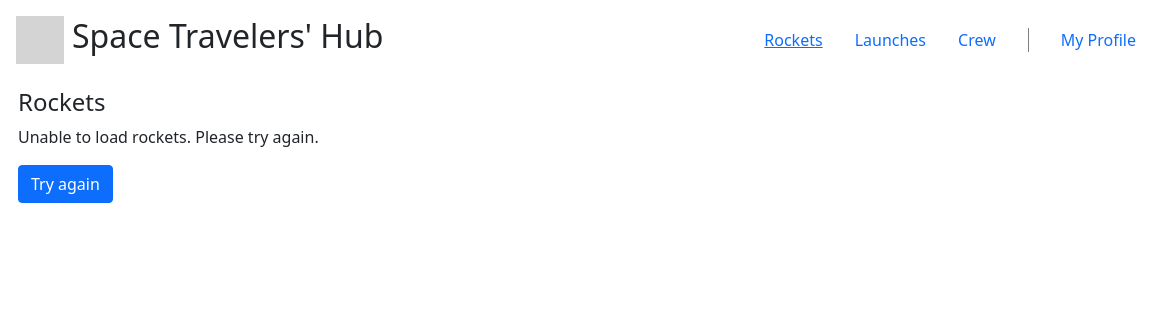
Test case: handles a network rejection and retries without an unhandled promise or duplicate request
Expected: the message shows "Unable to load rockets", [18,126,319,148]
Click the button "Try again": (65, 184) [18,165,113,203]
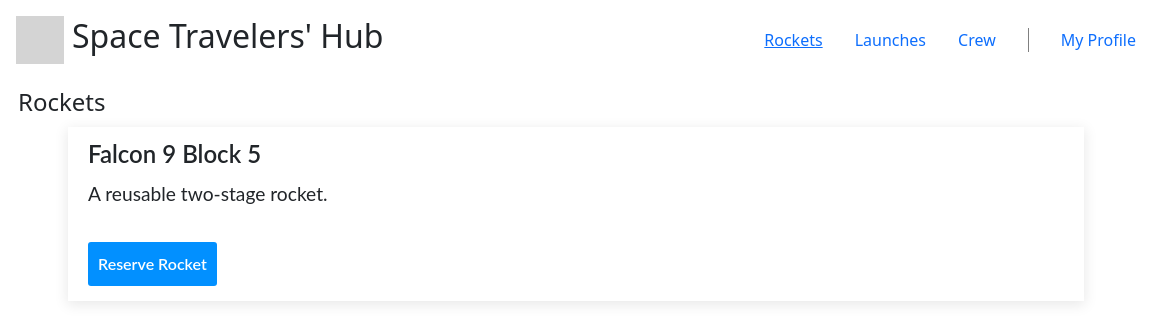
Expected: the text "Falcon 9 Block 5" is shown, [88,139,261,168]
Expected: the message "Unable to load rockets. Please try again. Try again" is gone
